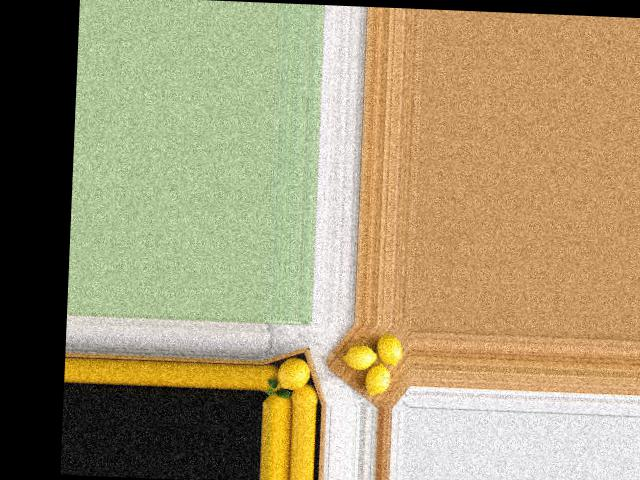lemon: (369, 328, 405, 366)
